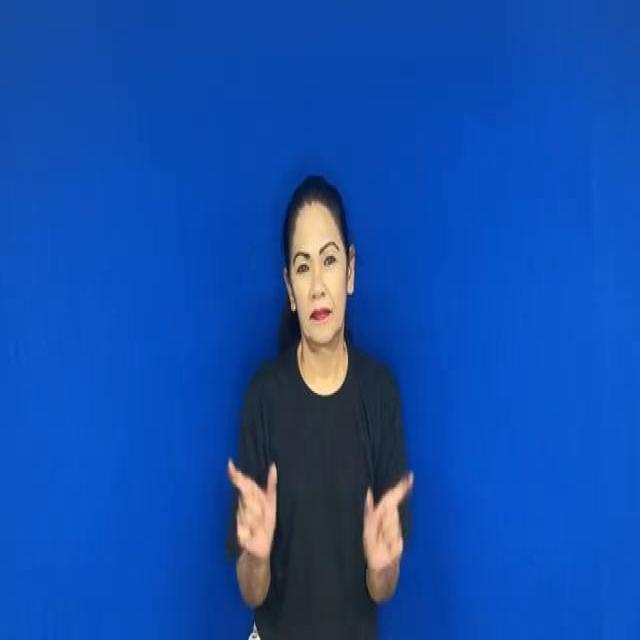crab: (223, 436, 431, 595)
